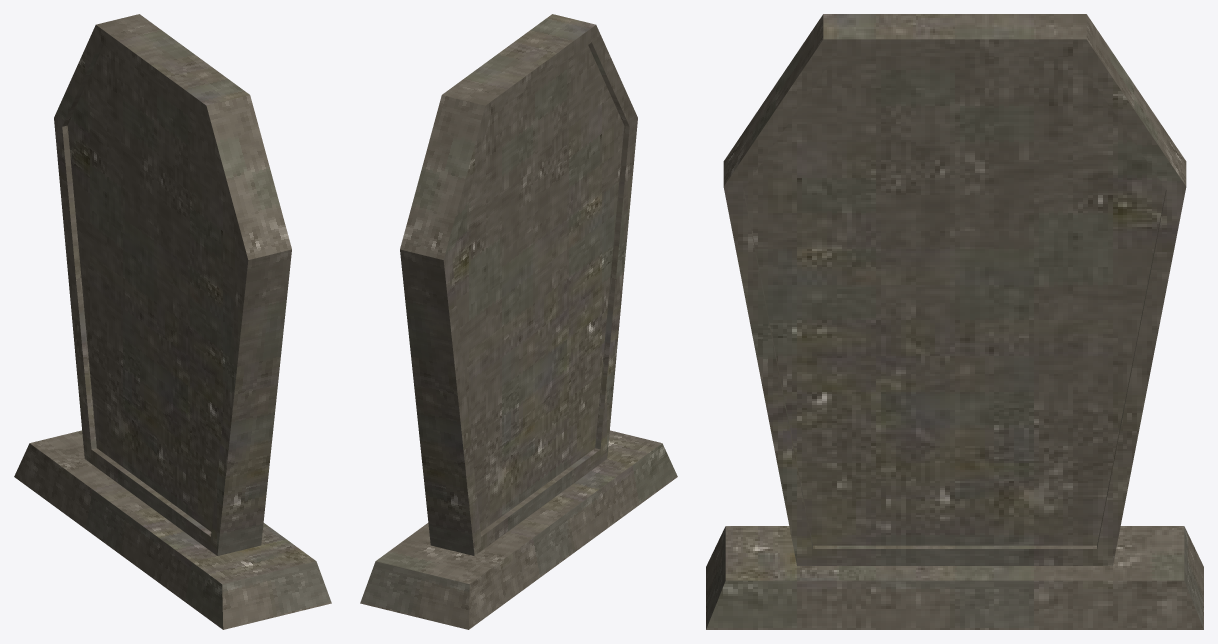
Rendered from Tumba3_rota.glb.
3 renders of one model, left to right at view 1: azimuth 30°, elevation 25°; view 2: azimuth 150°, elevation 25°; view 3: azimuth 270°, elevation 25°, orthographic. The views are drawn at different scales.
Visible parts, largest first — view 1: Lapida_3; view 2: Lapida_3; view 3: Lapida_3.
Part boxes in pixels (bbox=[...]): Lapida_3: bbox=[14, 14, 331, 629]; Lapida_3: bbox=[360, 14, 677, 629]; Lapida_3: bbox=[706, 14, 1203, 629].
Bounding box in the file's own units: 0.5999 × 2.53 × 2.
1 material, 1 textured.
